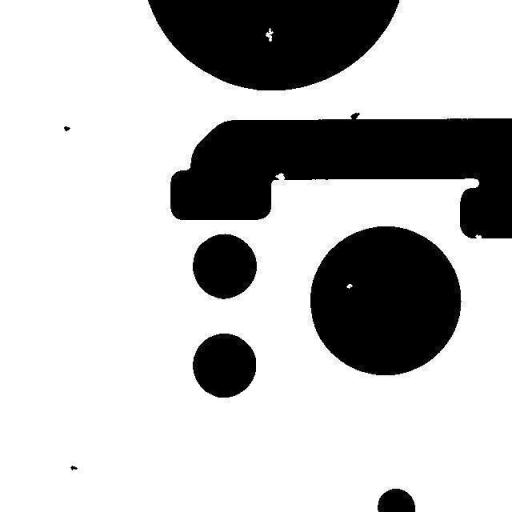copper: (57, 119, 77, 138), (64, 458, 84, 476)
mousebite: (268, 166, 291, 186), (468, 227, 488, 248)
pin-hole: (258, 21, 280, 48), (339, 277, 359, 295)
spur: (344, 106, 366, 127)
